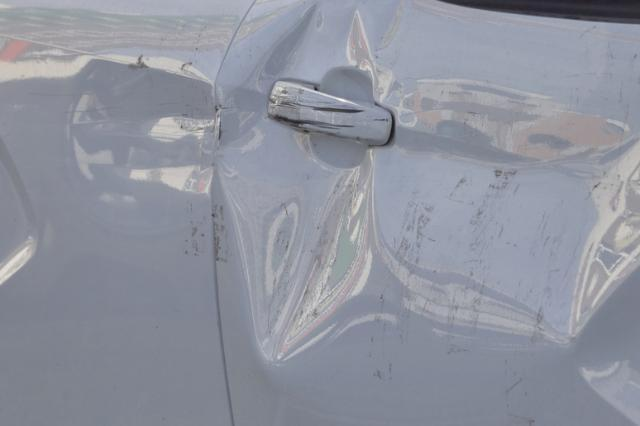Door: (171, 0, 542, 363)
